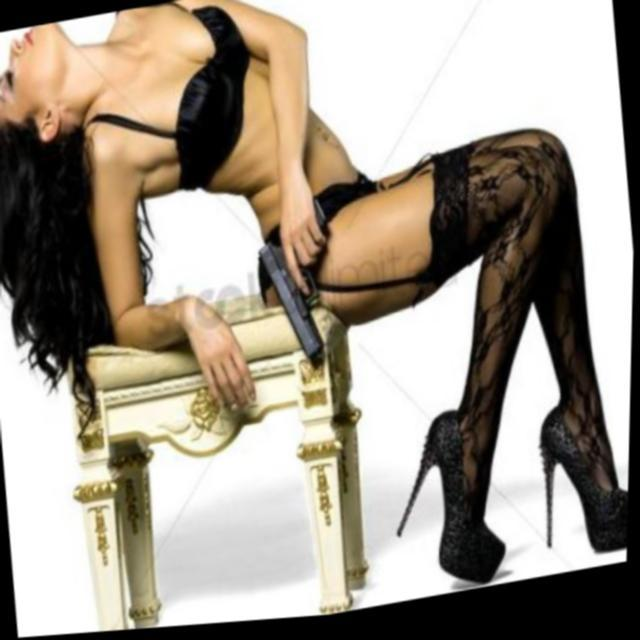weapon: (254, 234, 329, 378)
